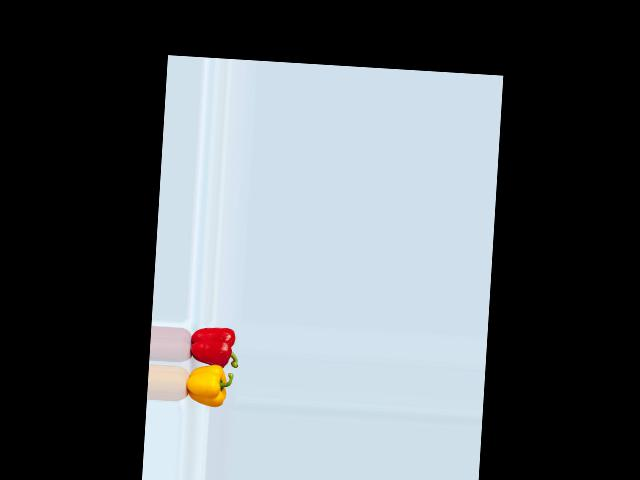bell_pepper: (184, 321, 239, 369)
